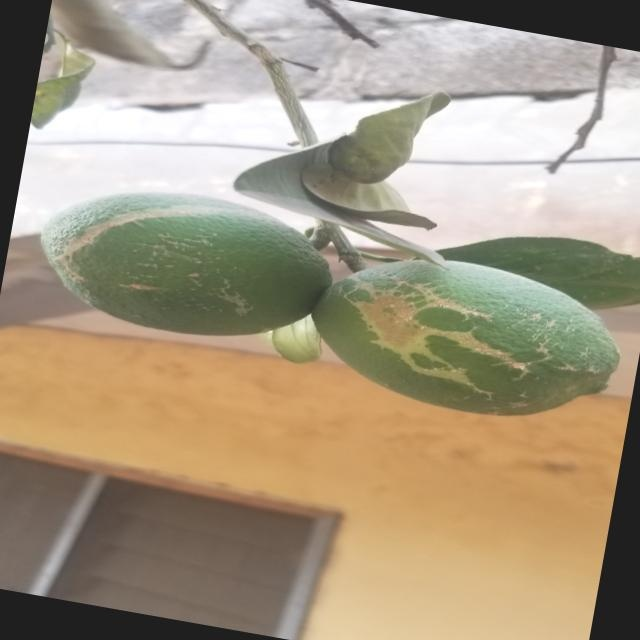agrume: (300, 239, 611, 430), (30, 166, 342, 356)
